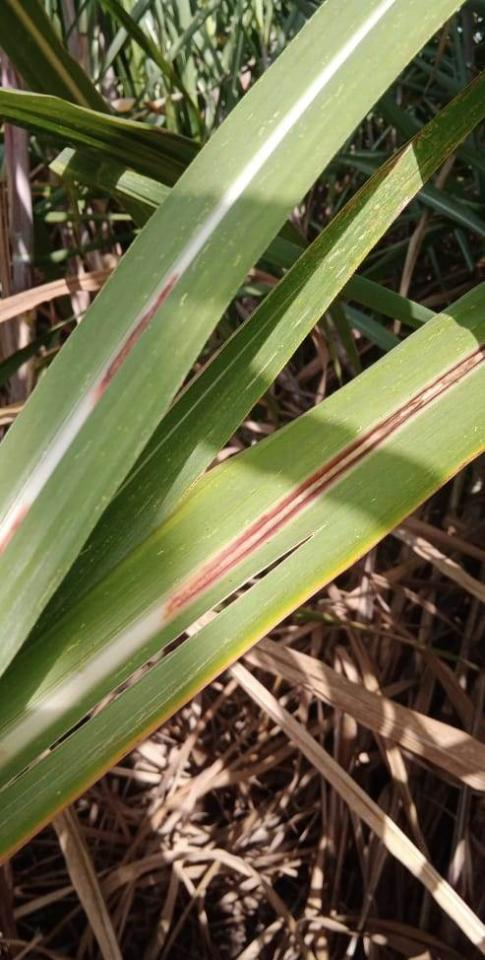RedRot: (167, 344, 485, 623), (95, 273, 181, 395), (0, 504, 32, 555)
